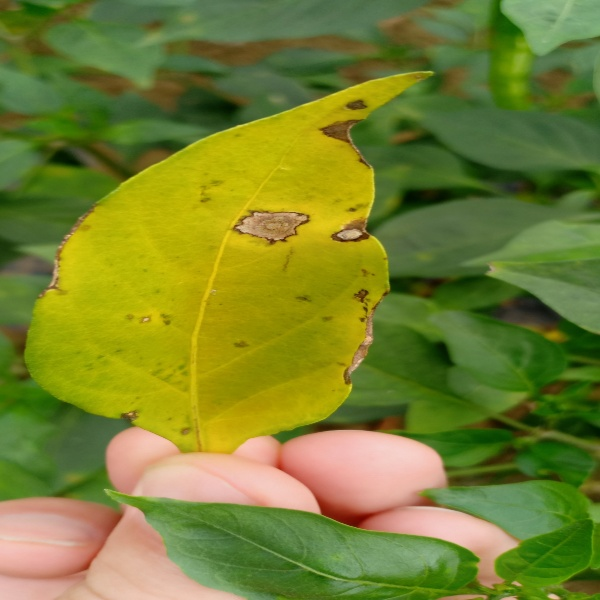Anthrax: (230, 96, 383, 387)
